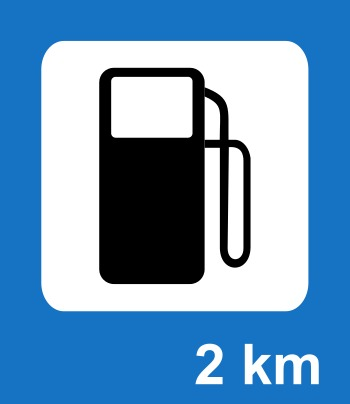fuel-station: (43, 45, 302, 307)
